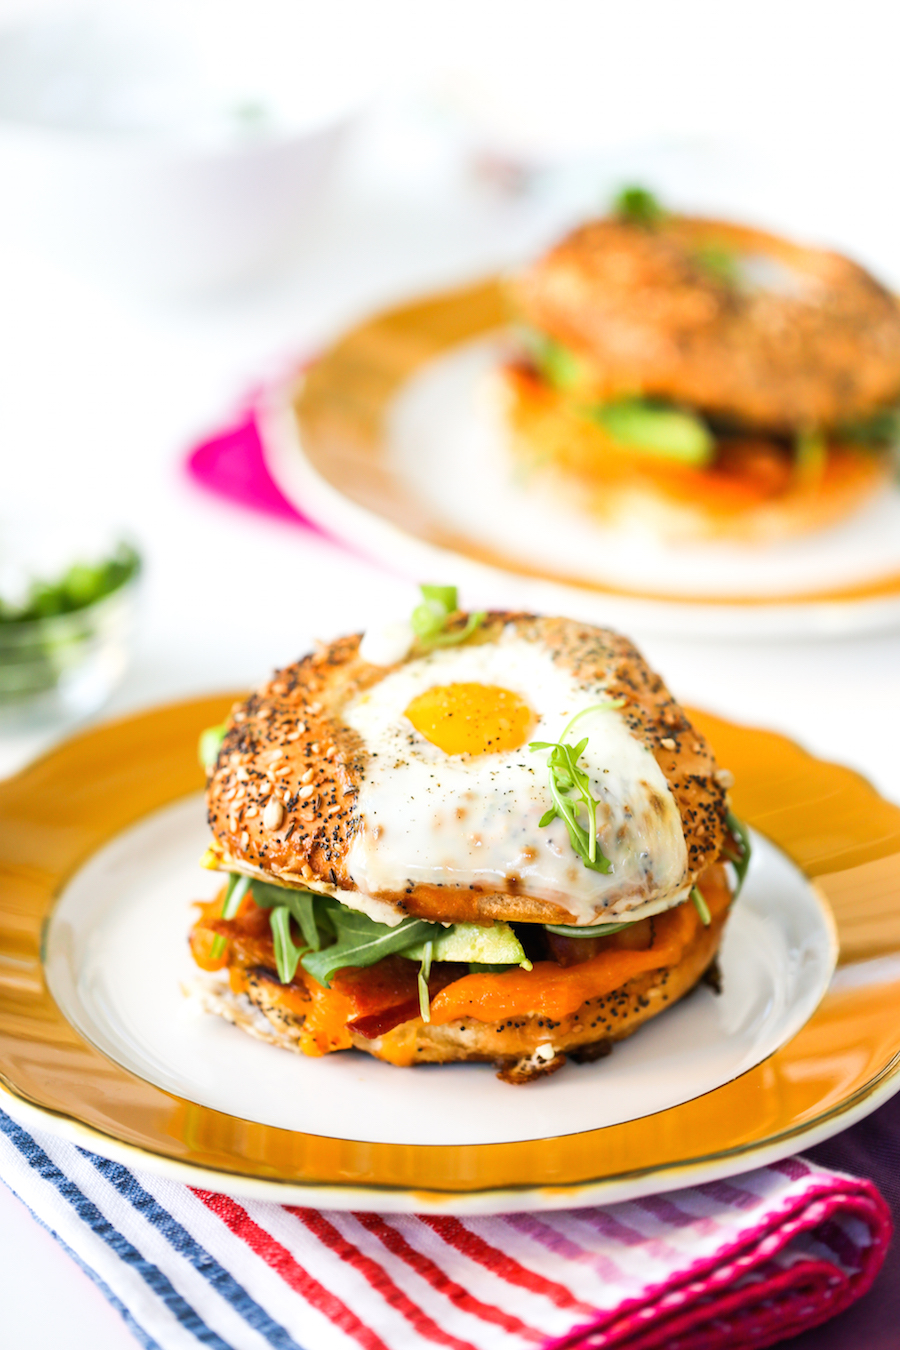fried egg: (245, 604, 725, 918)
slice of bread: (188, 959, 716, 1066)
